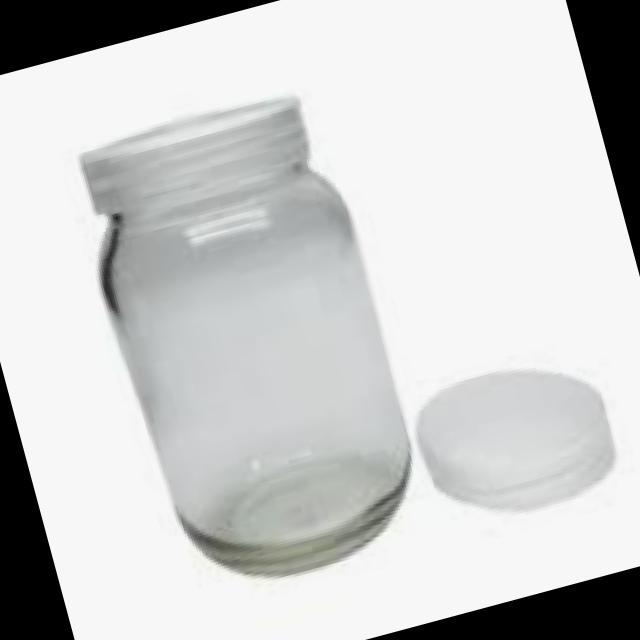ToplesKaca: (58, 77, 440, 604)
